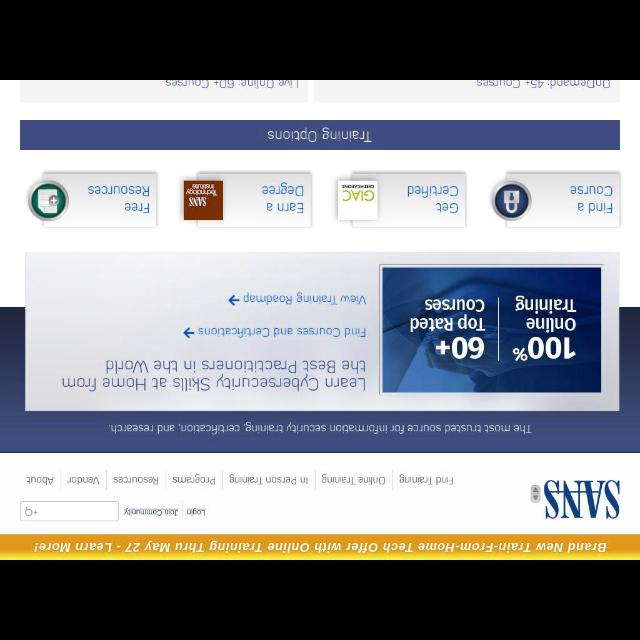icon: (228, 294, 240, 306), (183, 328, 194, 338), (25, 506, 33, 516), (33, 510, 37, 516)
image: (378, 264, 604, 396), (334, 172, 466, 228), (491, 172, 622, 228), (182, 172, 312, 228), (27, 172, 156, 228), (529, 479, 621, 519)
input: (20, 501, 119, 521)
multitab: (26, 472, 454, 486)
panel: (25, 252, 620, 411), (20, 120, 620, 150), (1, 534, 639, 560)
text: (62, 359, 366, 391), (35, 540, 608, 552), (108, 422, 532, 434), (198, 327, 366, 337), (268, 126, 372, 142), (244, 292, 366, 304), (165, 81, 298, 89), (476, 82, 610, 88), (228, 474, 308, 484), (321, 474, 385, 486), (399, 474, 453, 486), (124, 508, 178, 516), (172, 474, 215, 484), (114, 476, 158, 484), (66, 476, 100, 484), (26, 476, 54, 484), (187, 508, 206, 516)
